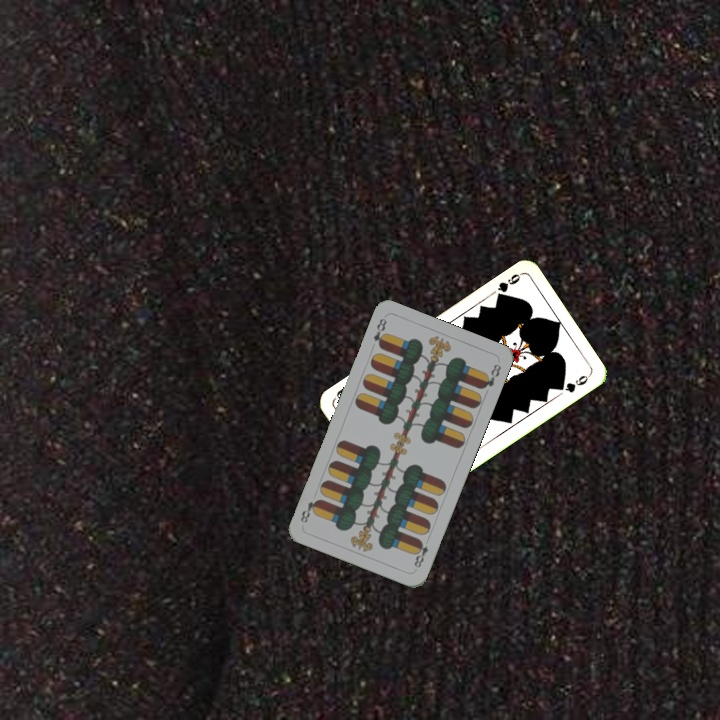E8: (369, 314, 390, 351), (410, 536, 431, 570)
G9: (492, 269, 524, 303)
